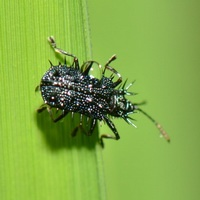insect: (40, 36, 169, 144)
